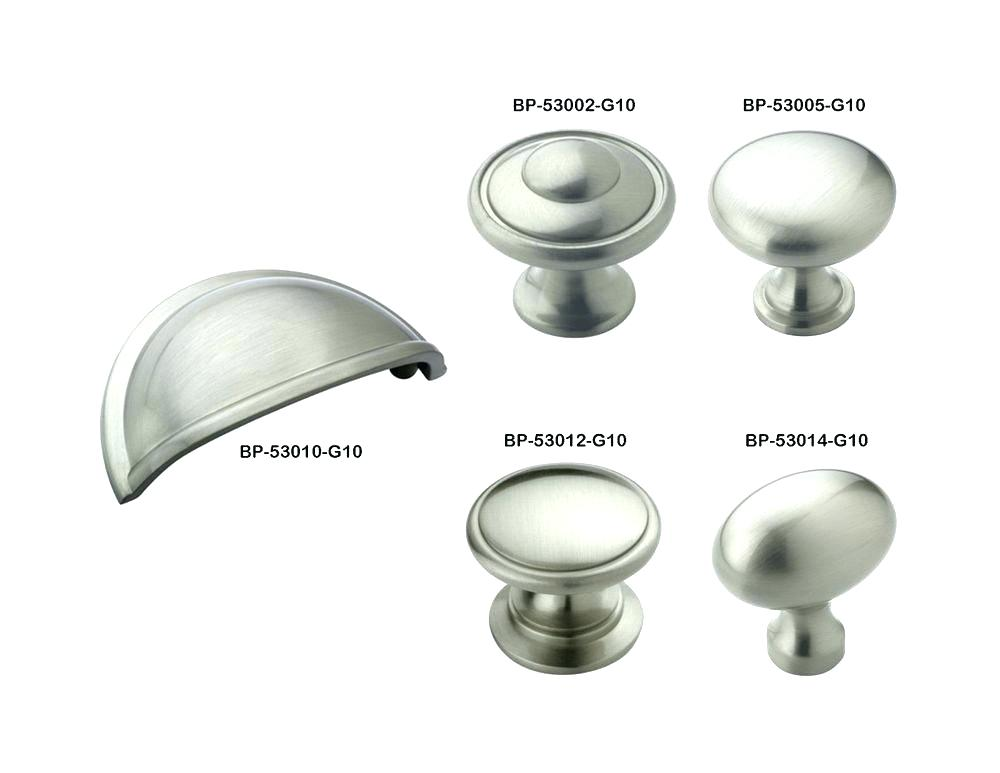handle: (42, 246, 447, 483), (461, 112, 670, 347), (702, 120, 903, 348), (709, 464, 900, 674), (466, 476, 666, 671)
